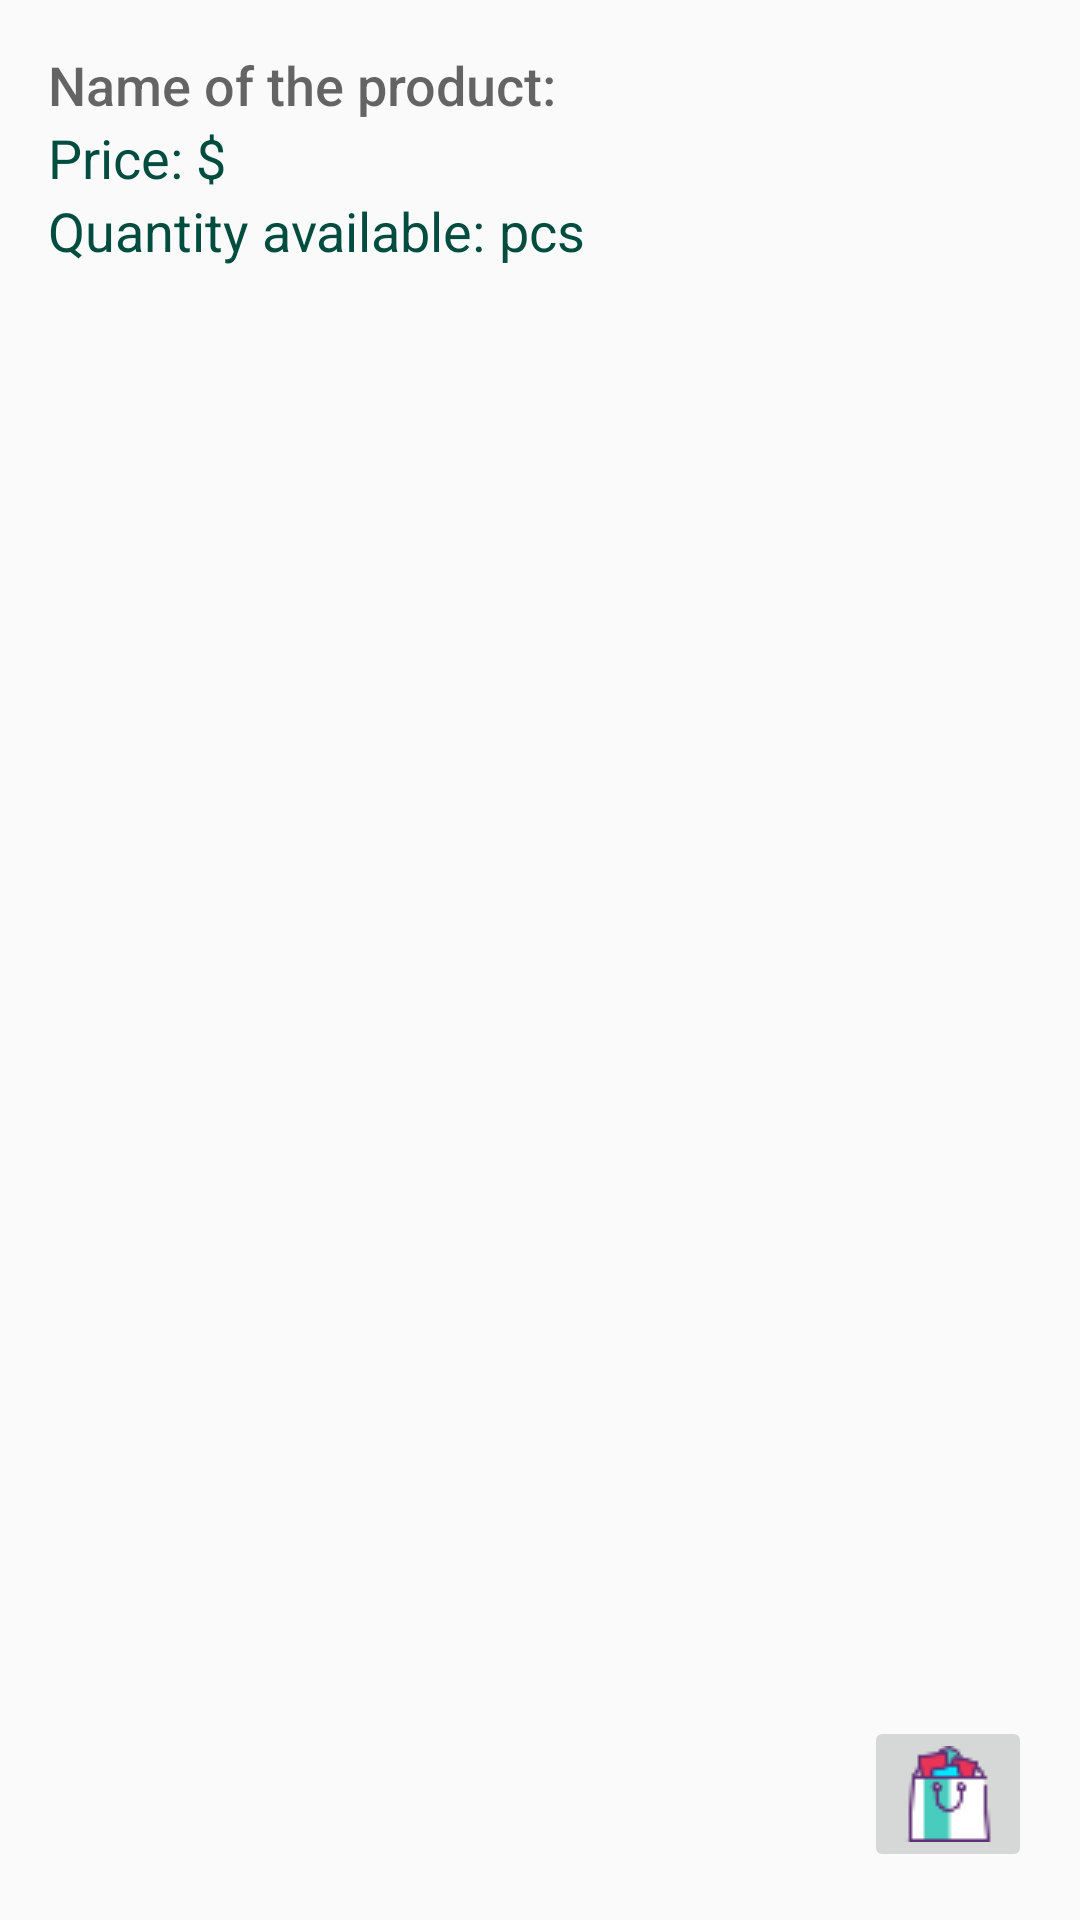

Screen size 1080w x 1920h. Icon name, then its box in pixels as BBox(x1, y1, x2, y2):
sale: BBox(876, 1734, 1020, 1854)
